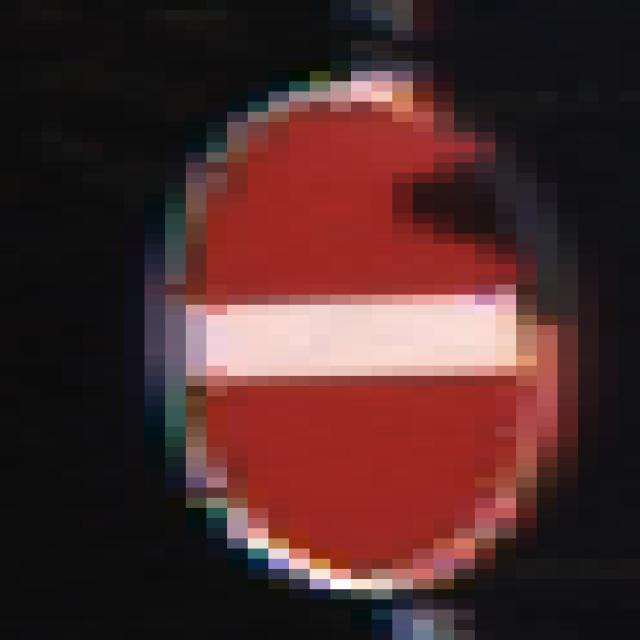No Entry: (125, 62, 538, 580)
